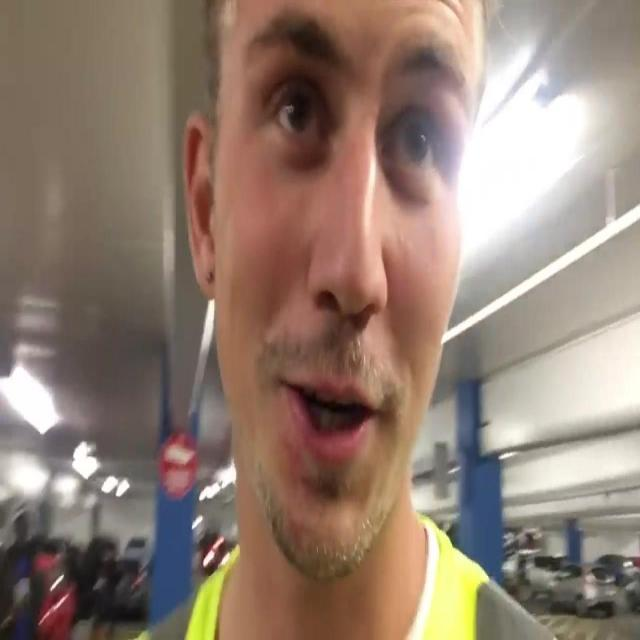Reflective-Jacket: (179, 517, 557, 640)
